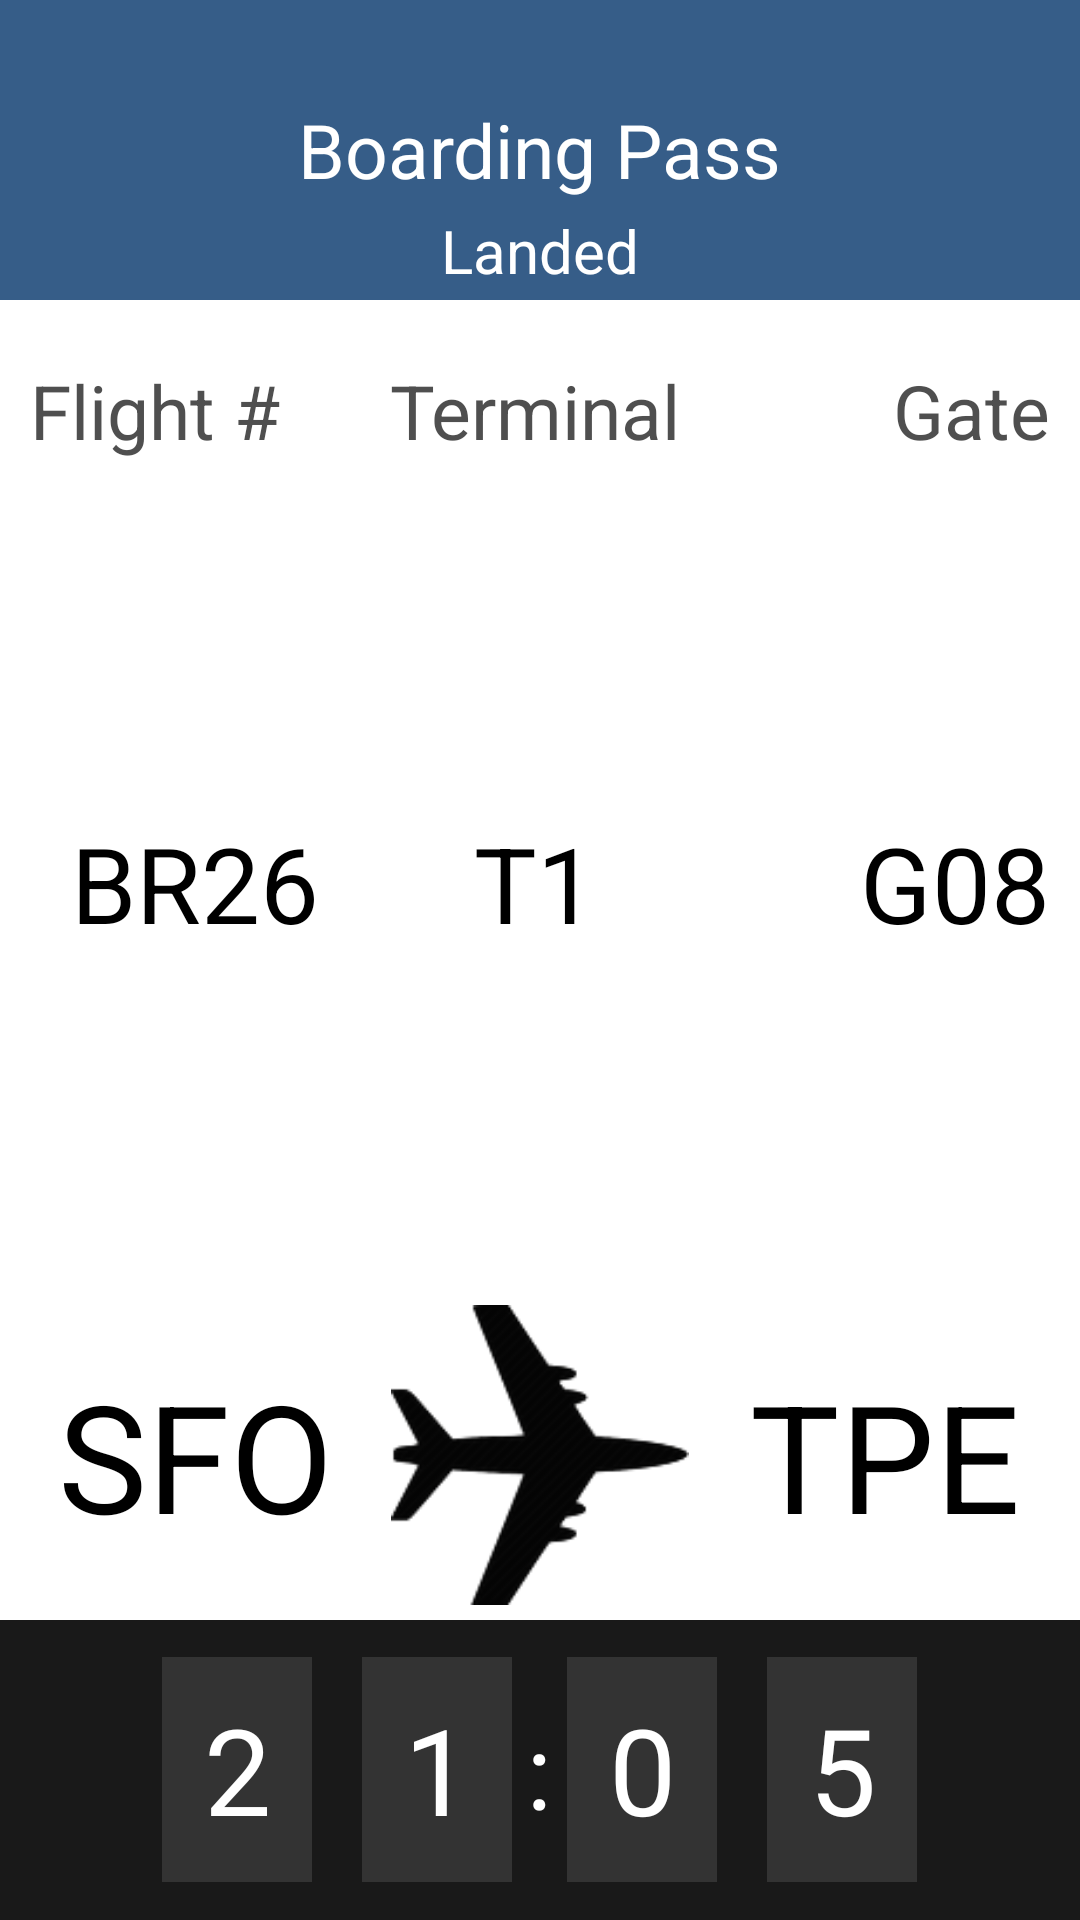

Icons on this 1080×1920 Android screen, each with the point to tap as point (x, y):
airplane: point (540, 1455)
